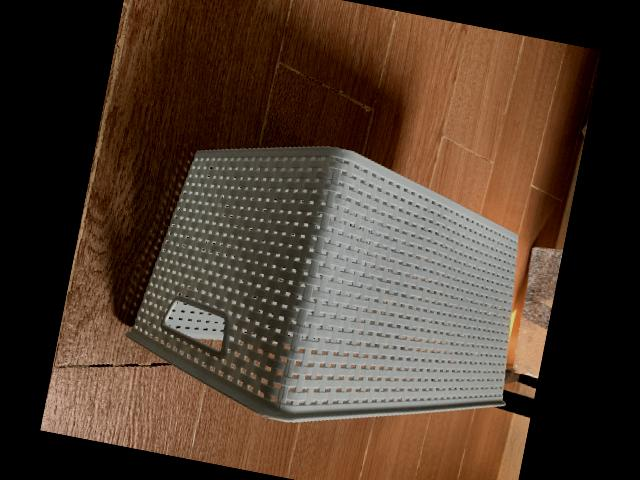cart: (125, 143, 516, 422)
